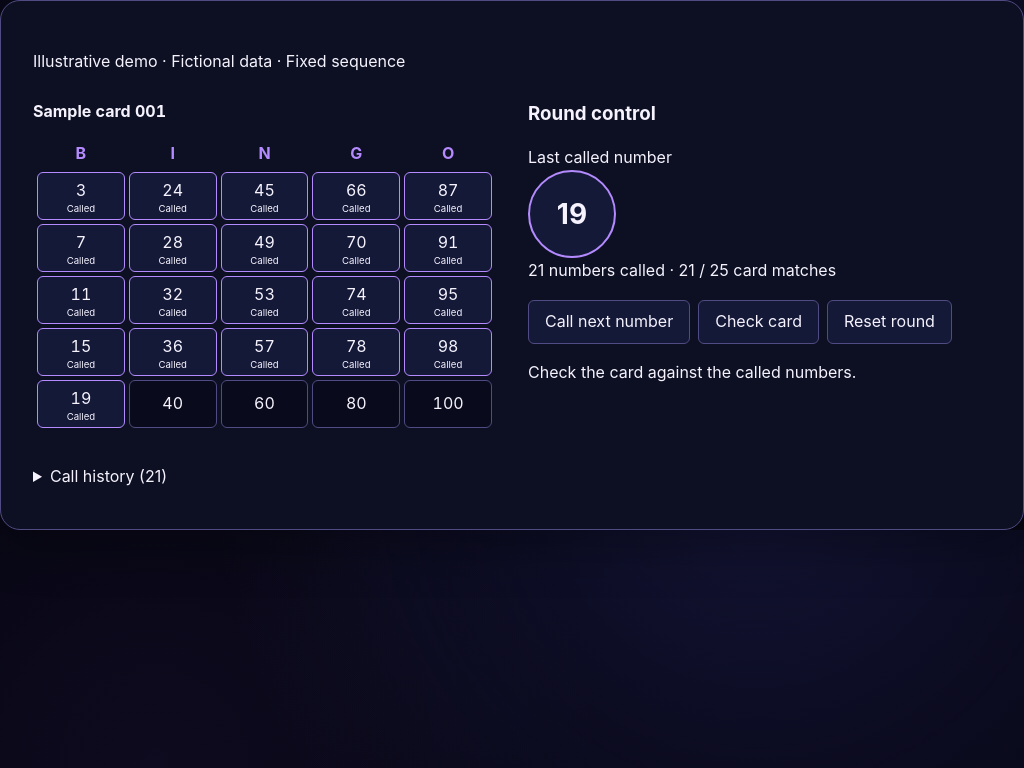
it: RoundDemo › checks the incomplete card, clears stale review, and stops at a completed sequence
Click the button "Check card" at (759, 322), box top-left (698, 300), bottom-right (819, 344)
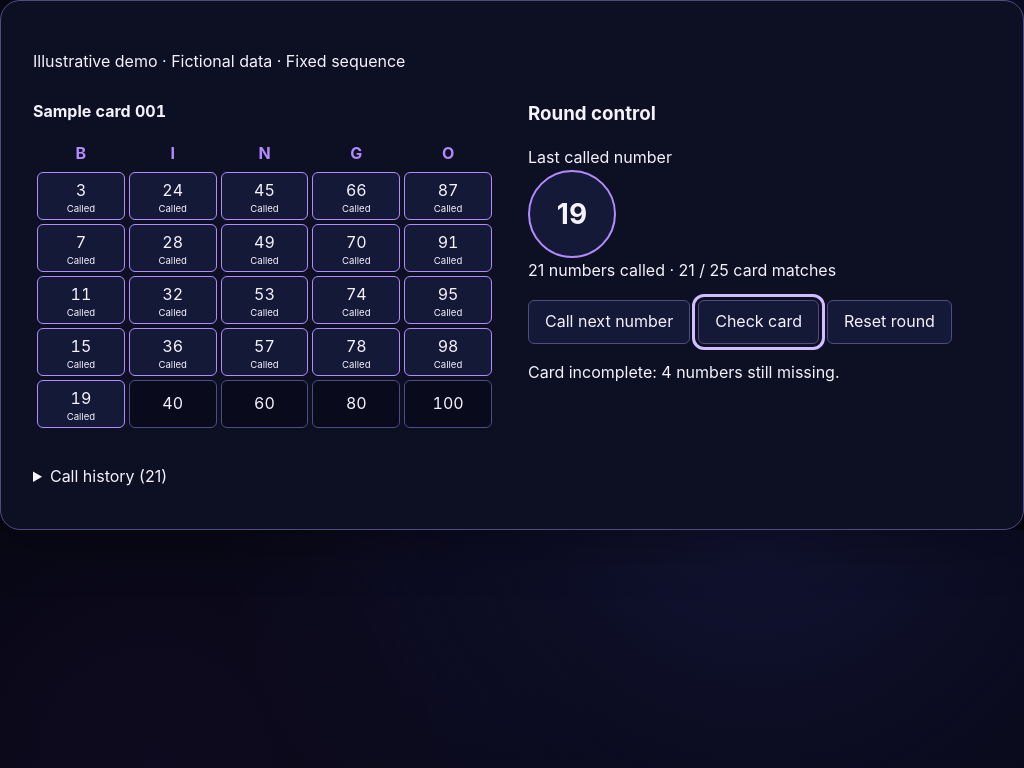
Expected: the message shows "4 numbers still missing", top-left (528, 362), bottom-right (840, 382)
Click the button "Call next number" at (609, 322), box top-left (528, 300), bottom-right (690, 344)
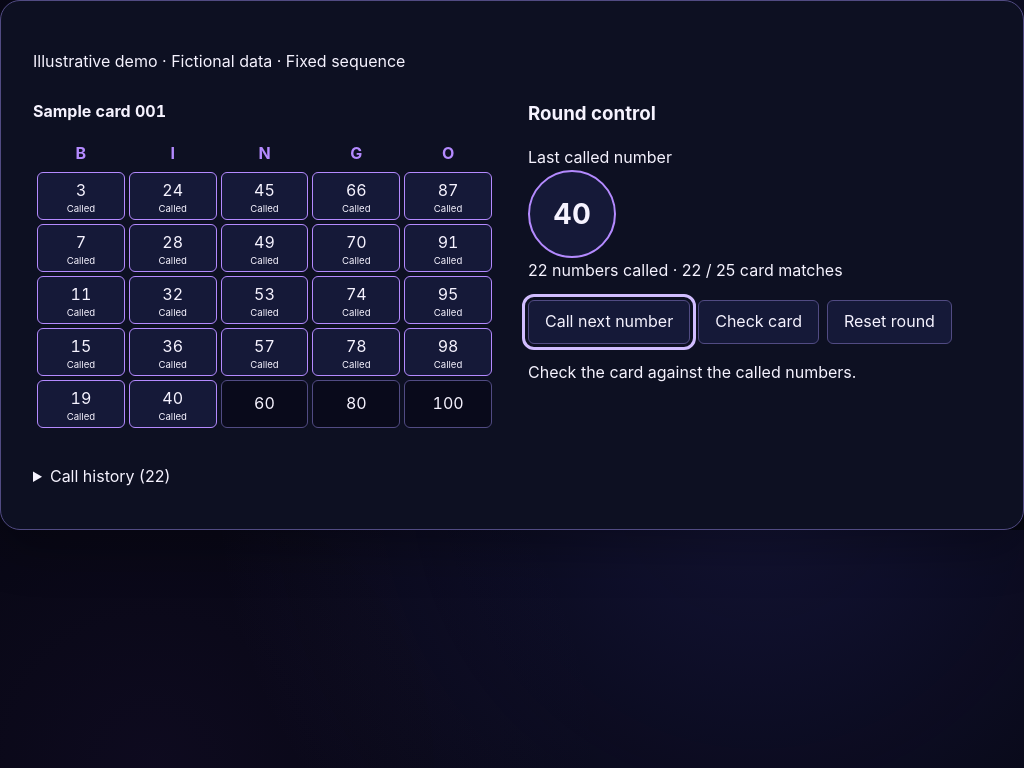
Expected: the message no longer shows "incomplete", top-left (528, 362), bottom-right (856, 382)
Click the button "Call next number" at (609, 322), box top-left (528, 300), bottom-right (690, 344)
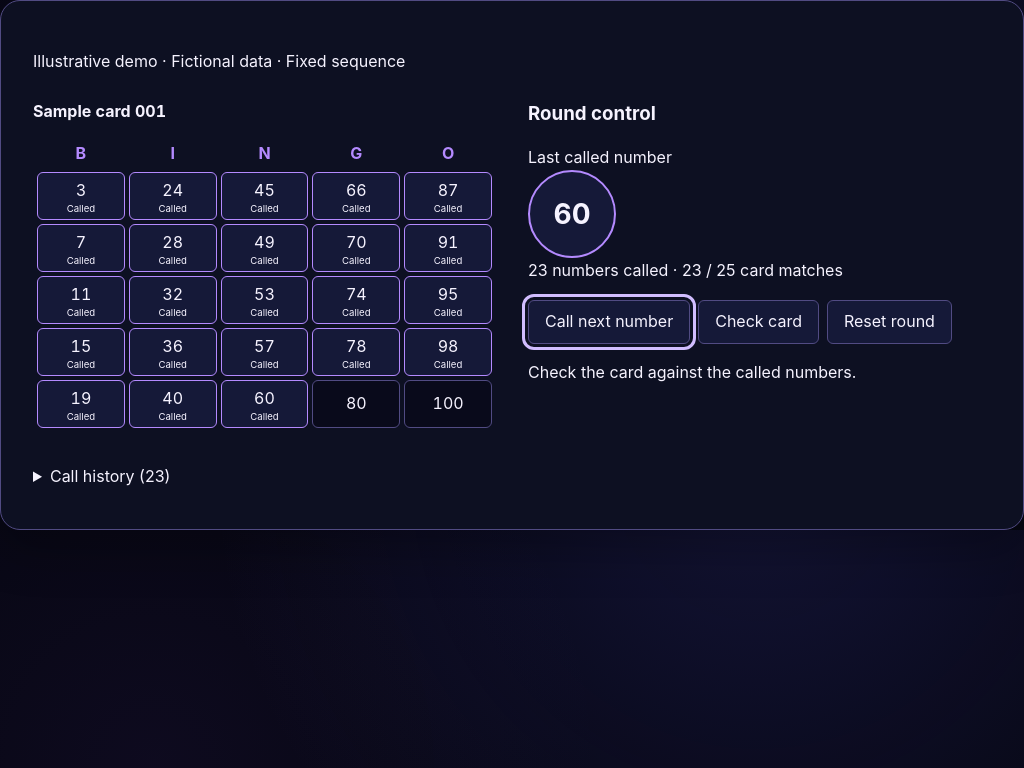
Click the button "Call next number" at (609, 322), box top-left (528, 300), bottom-right (690, 344)
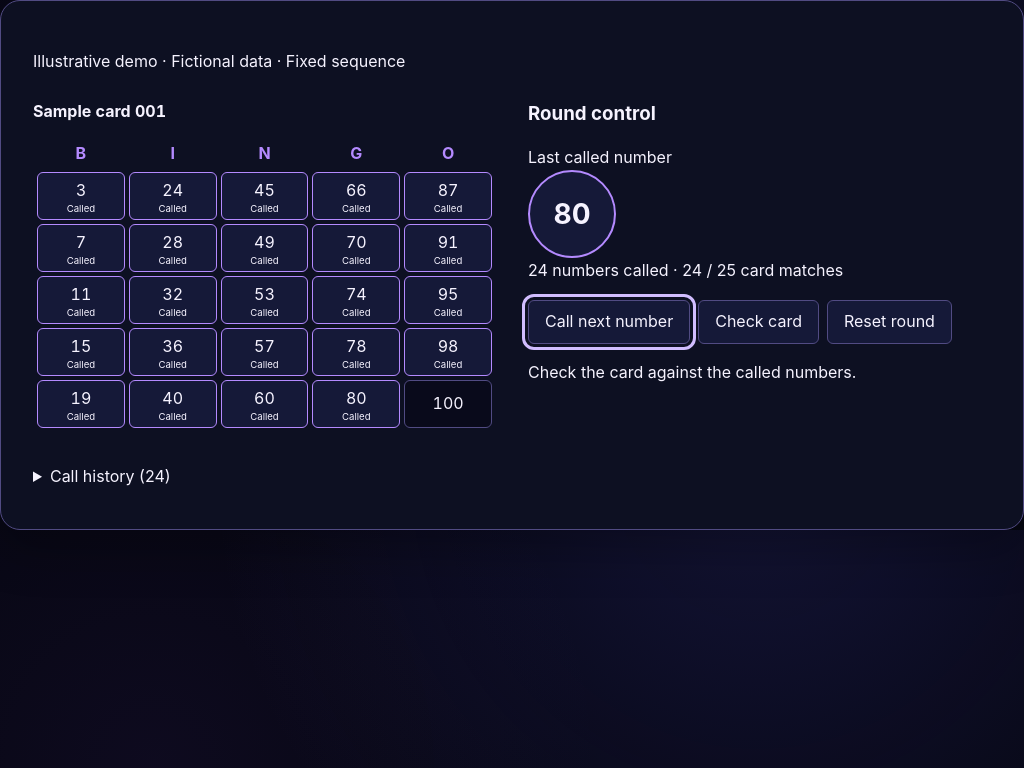
Click the button "Call next number" at (609, 322), box top-left (528, 300), bottom-right (690, 344)
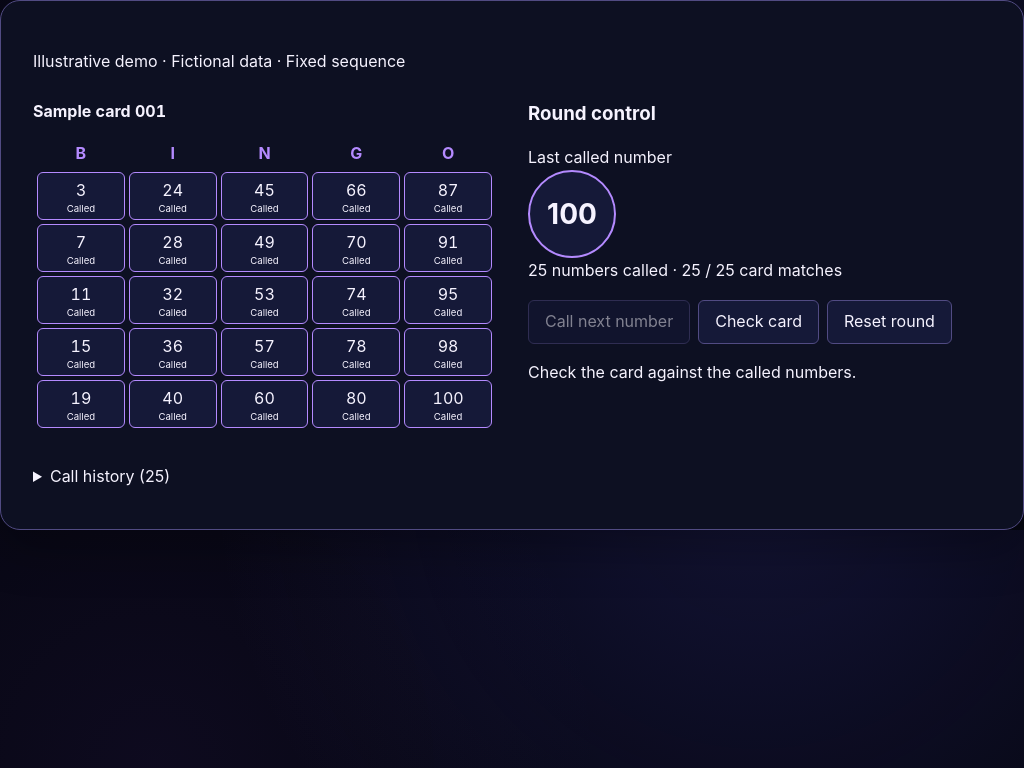
Click the button "Check card" at (759, 322), box top-left (698, 300), bottom-right (819, 344)
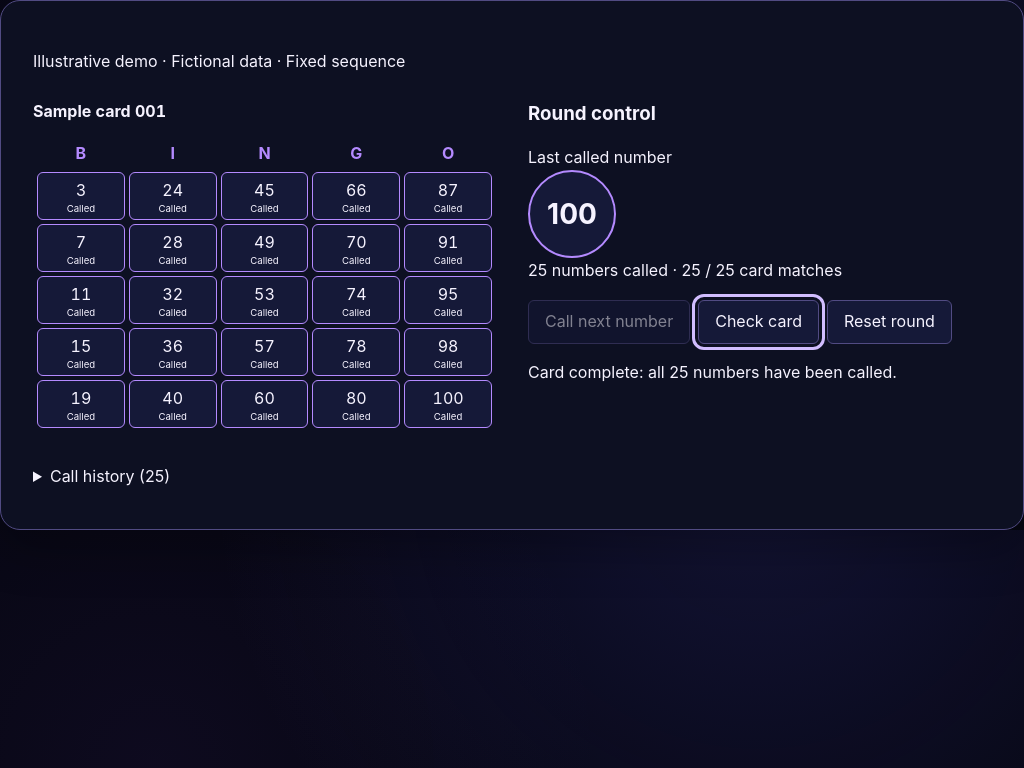
Expected: the button "Call next number" is disabled, top-left (528, 300), bottom-right (690, 344)
Expected: the message reads "Card complete: all 25 numbers have been called.", top-left (528, 362), bottom-right (897, 382)
